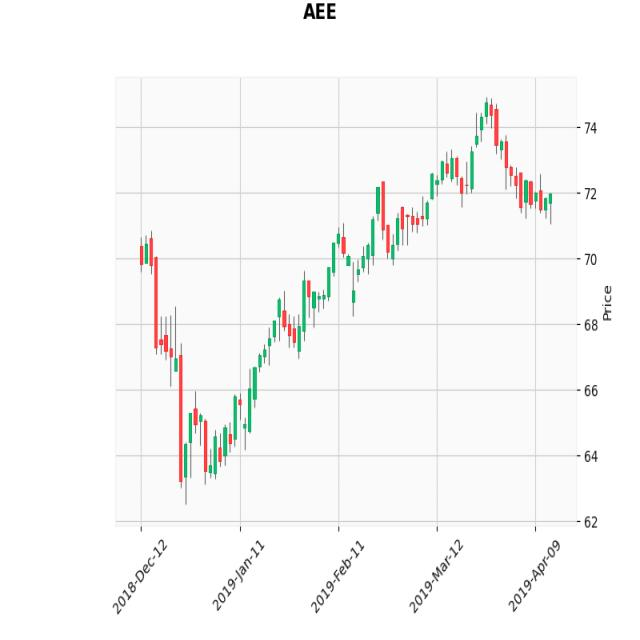Double-Bottom: (167, 364, 248, 499)
Head-Shoulders: (419, 89, 553, 234)
